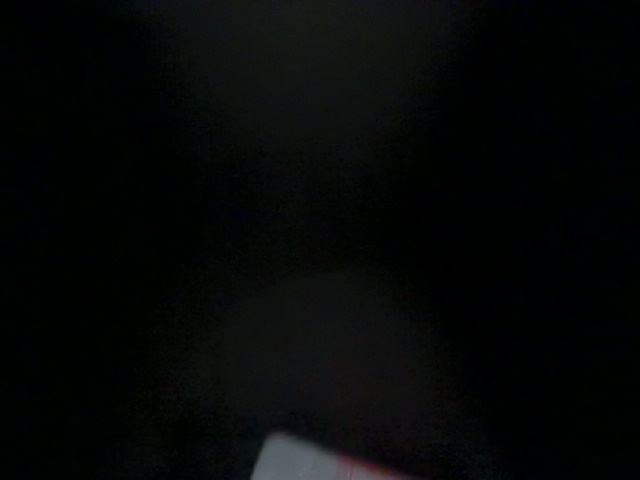CYLJ: (475, 111, 639, 478)
